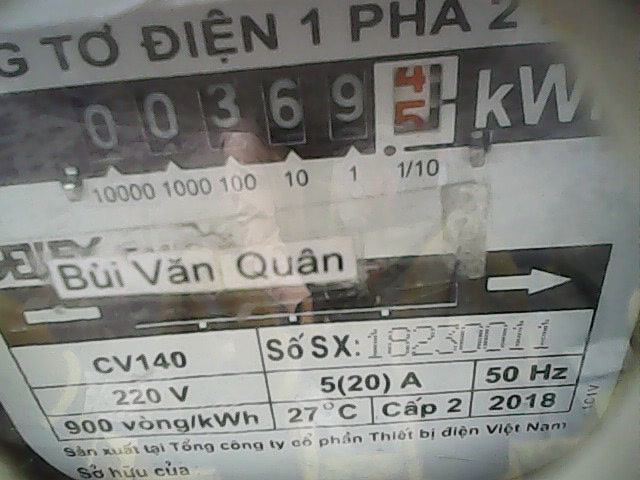phy_plate: (60, 51, 468, 180)
